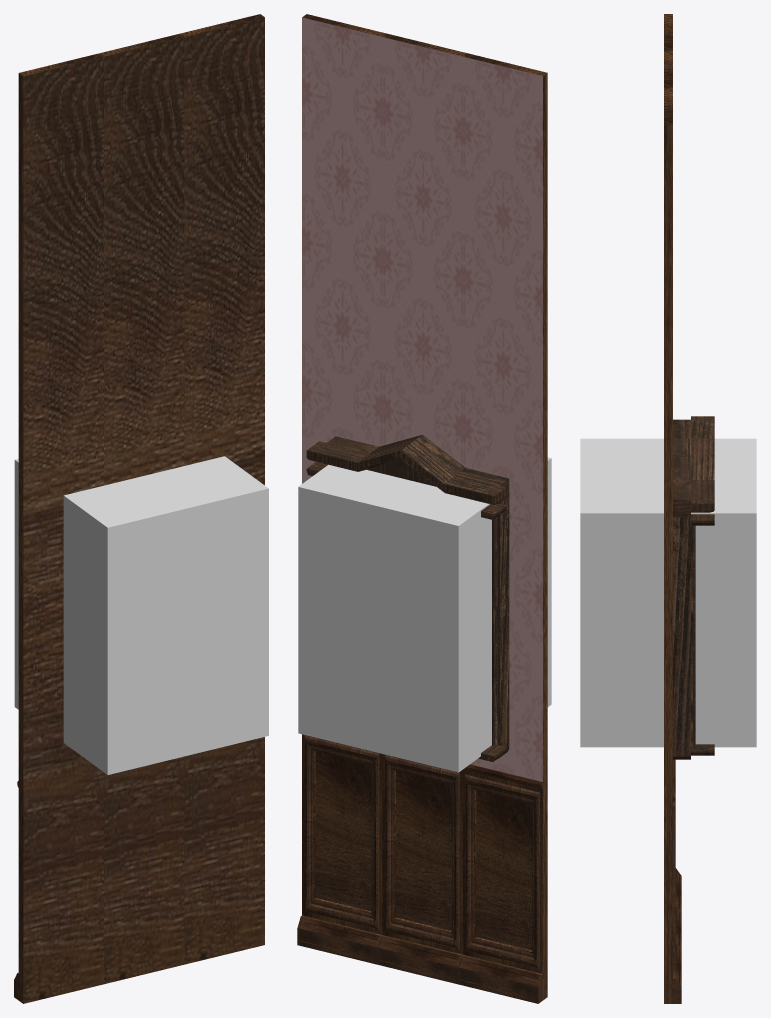
Rendered from Mur_Fenetre_V1_3X.fbx.
3 views of the same model, side by side, from view 1: azimuth 30°, elevation 25°; view 2: azimuth 150°, elevation 25°; view 3: azimuth 270°, elevation 25° (orthographic). The views are drawn at different scales.
Parts seen in each view (by area): view 1: Cube, Cube.001; view 2: Cube, Cube.001, bar_bas; view 3: Cube.001, Cube, bar_bas.
Boxes of the visible parts, left/top/right/bottom form: Cube: left=14, top=14, right=264, bottom=1003; Cube.001: left=14, top=456, right=268, bottom=774; Cube: left=297, top=14, right=547, bottom=1003; Cube.001: left=298, top=457, right=551, bottom=772; bar_bas: left=306, top=434, right=509, bottom=761; Cube.001: left=580, top=438, right=756, bottom=747; Cube: left=664, top=14, right=681, bottom=1003; bar_bas: left=673, top=416, right=714, bottom=759.
Bounding box in the file's own units: 300 × 1100 × 200.
